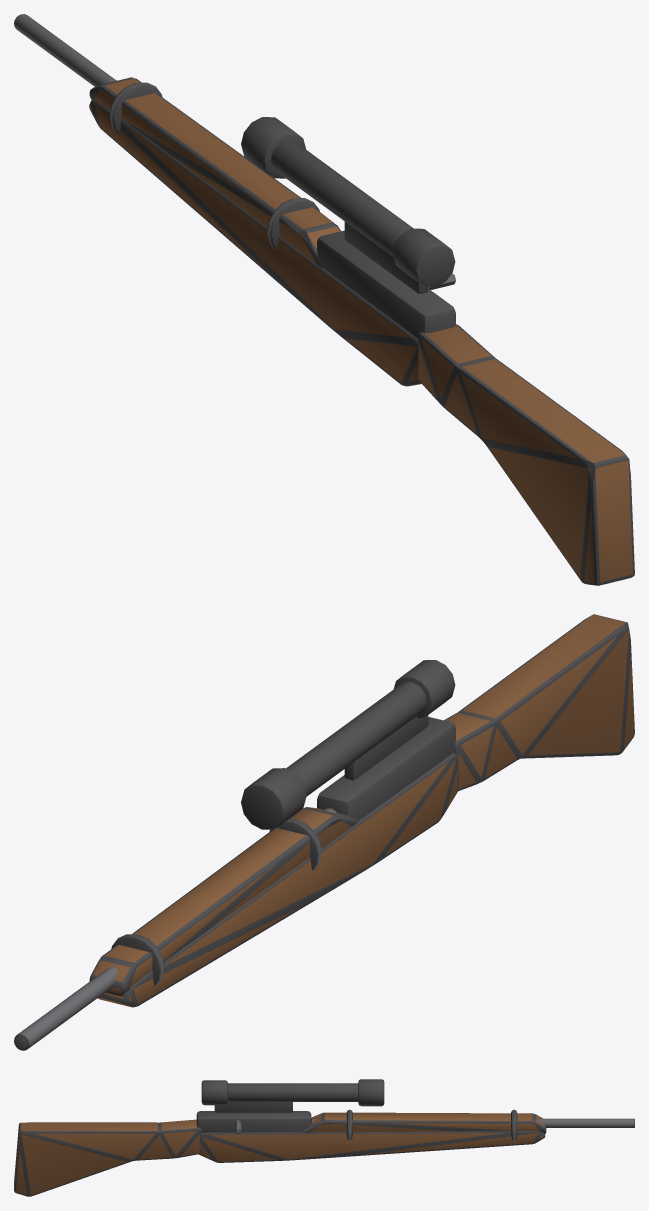
The model's file is kar98k_scoped.glb.
3 renders of one model, top to bottom at view 1: azimuth 30°, elevation 25°; view 2: azimuth 150°, elevation 25°; view 3: azimuth 270°, elevation 25°, orthographic. The views are drawn at different scales.
Visible parts, largest first — view 1: kar98k_scoped_LOD0; view 2: kar98k_scoped_LOD0; view 3: kar98k_scoped_LOD0.
Part boxes in pixels (x1,y1,x2,y2): kar98k_scoped_LOD0: [14, 14, 634, 585]; kar98k_scoped_LOD0: [14, 614, 634, 1050]; kar98k_scoped_LOD0: [14, 1079, 634, 1196].
Bounding box in the file's own units: 0.091 × 0.2372 × 1.19.
